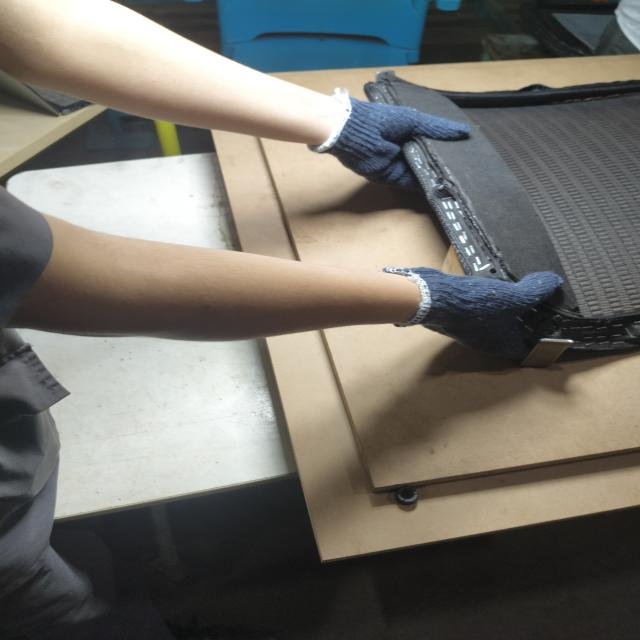Gloves-Detection: (376, 255, 565, 359), (322, 84, 476, 199)
